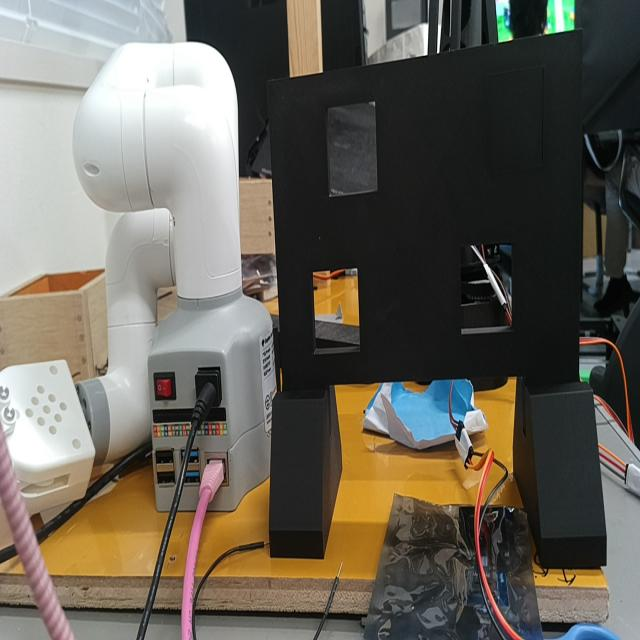Obstacle: (327, 103, 379, 194), (462, 244, 512, 335), (312, 268, 362, 352)
Wall: (268, 29, 583, 389)
